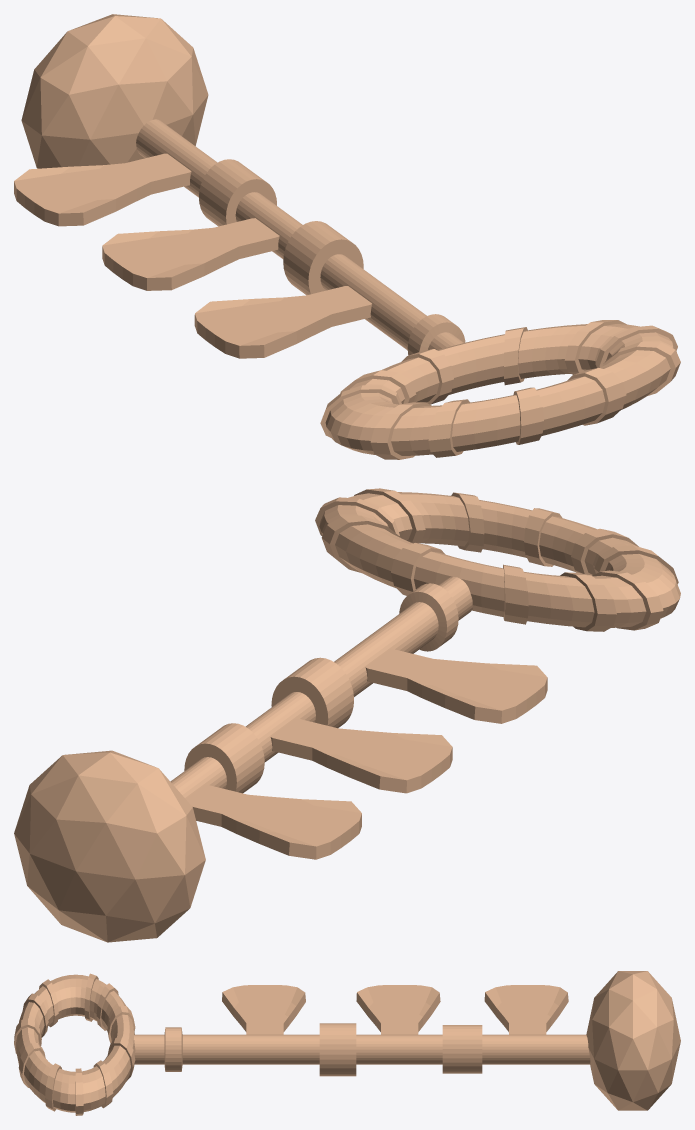
Rendered from Key.fbx.
3 renders of one model, top to bottom at view 1: azimuth 30°, elevation 25°; view 2: azimuth 150°, elevation 25°; view 3: azimuth 270°, elevation 25°, orthographic. The views are drawn at different scales.
Parts seen in each view (by area): view 1: Cylinder; view 2: Cylinder; view 3: Cylinder.
Part boxes in pixels (box(x1,y1,x2,y2)): Cylinder: box(14, 14, 680, 459); Cylinder: box(14, 488, 680, 942); Cylinder: box(14, 971, 680, 1115).
Size of the model in its own units: 2.59 by 1.31 by 5.93.
